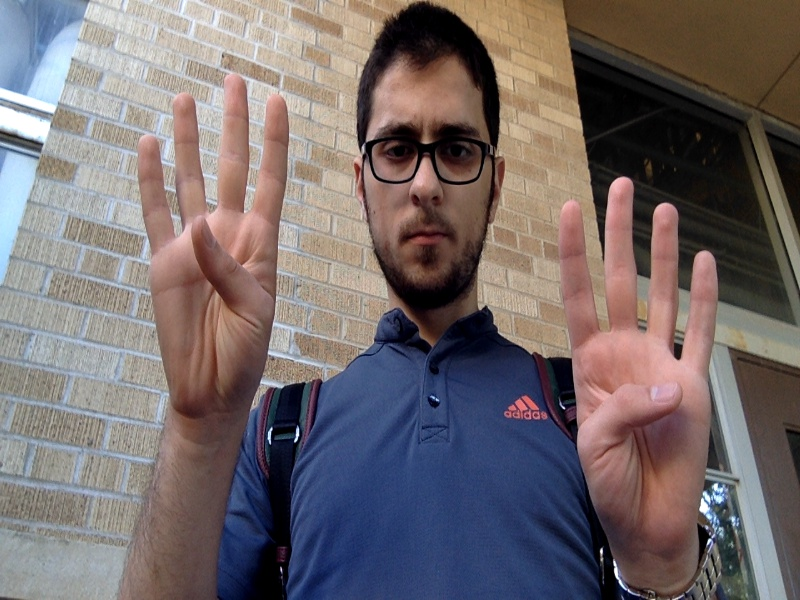4-hand: (559, 177, 718, 559), (137, 75, 286, 439)
